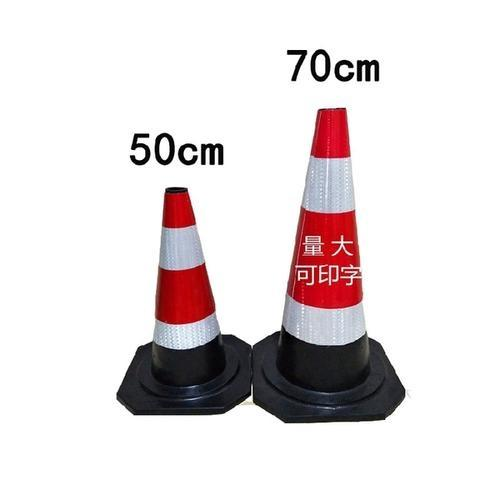cone_barrel: (263, 109, 389, 410), (134, 187, 237, 398)
